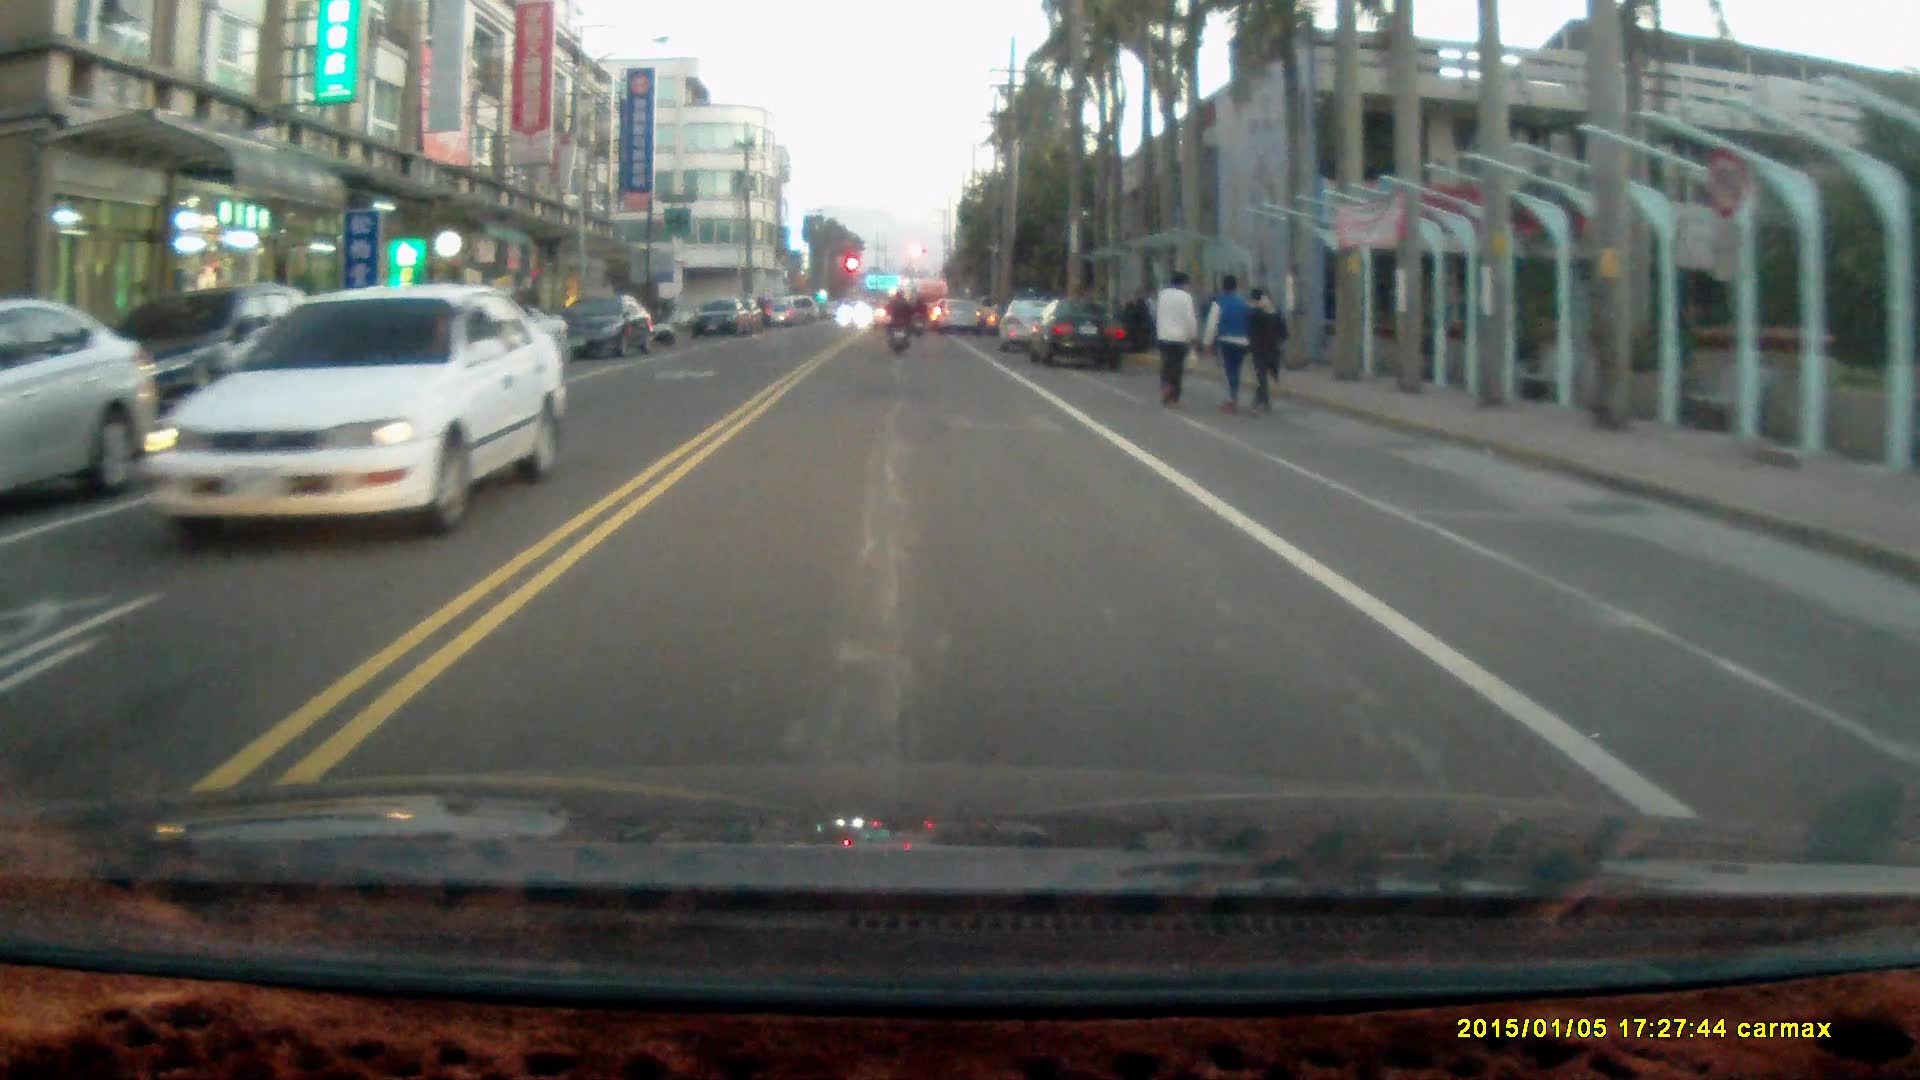pedestrian: (1150, 265, 1197, 411), (1201, 269, 1250, 412), (1241, 282, 1283, 416)
rider: (883, 284, 914, 356)
vehicle: (136, 286, 563, 539), (79, 278, 310, 437), (1, 296, 154, 507), (555, 291, 649, 362), (1036, 298, 1128, 371), (999, 297, 1086, 357), (691, 299, 755, 341)
